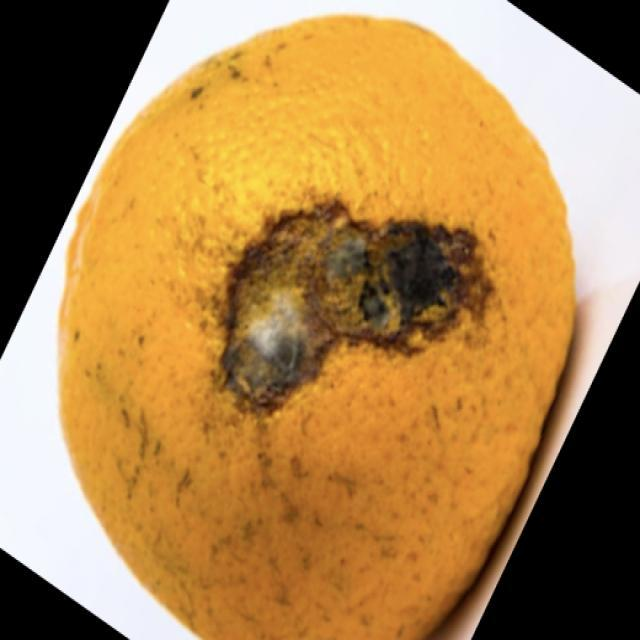sedikit-busuk: (60, 17, 573, 639)
